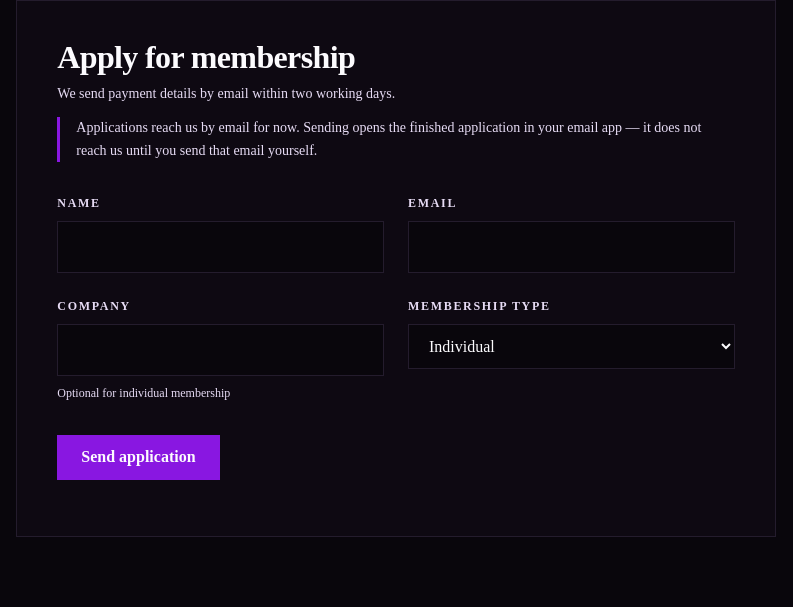
it: MembershipForm (en) › clears a field error as the field is corrected
This screenshot has width=793, height=607.
Click the button "Send application" at (138, 457), box [57,435,220,480]
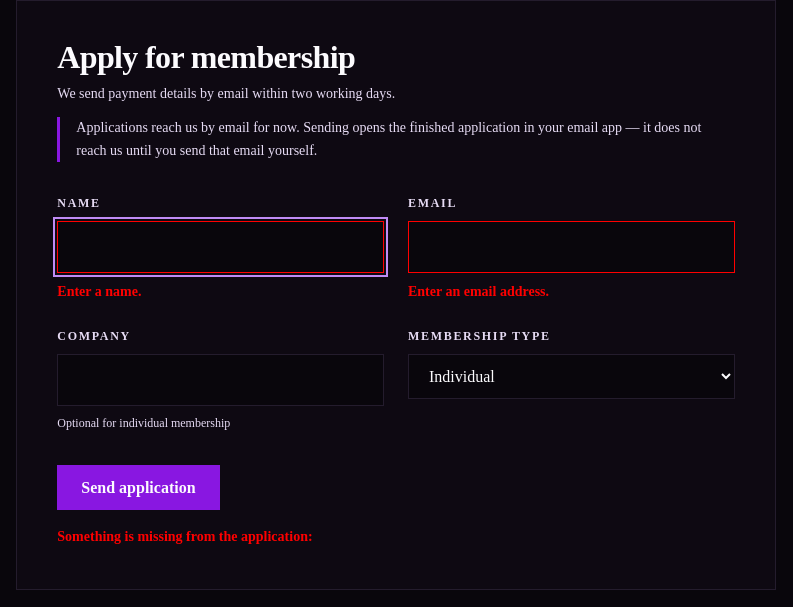
Result: the text "Enter a name." is shown at [57,284,141,299]
Type "Anna" into the field labelled "Name" at (221, 247), box [57,221,384,273]
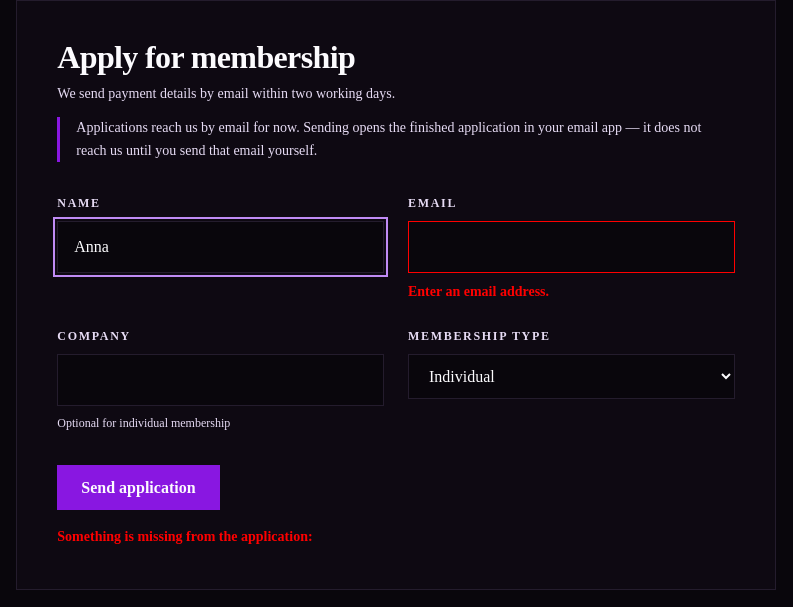
Result: the text "Enter a name." is gone
